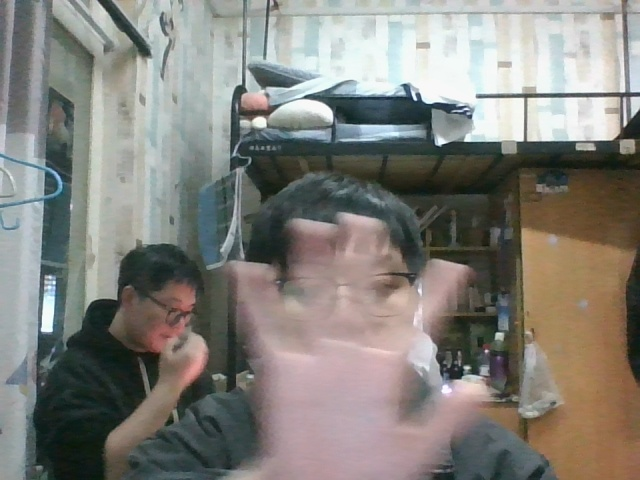hello: (219, 219, 490, 480)
